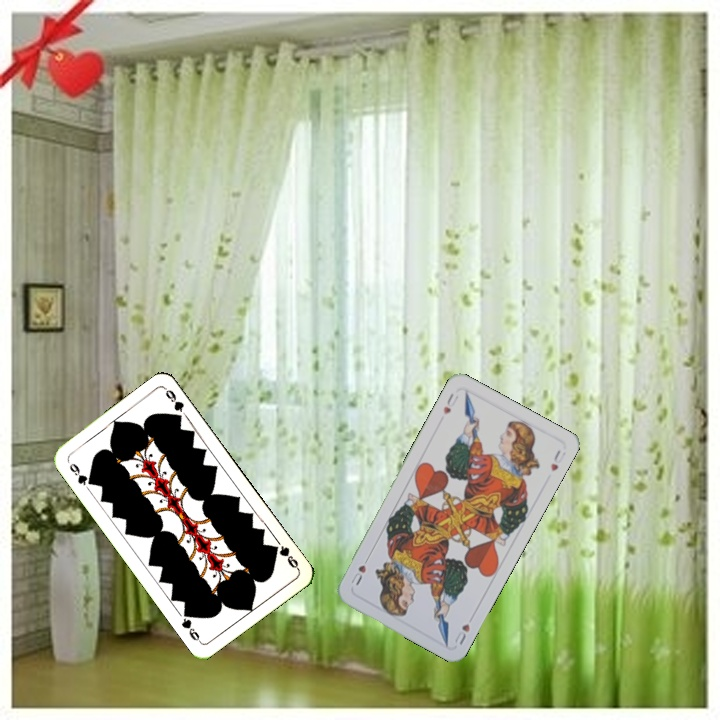G9: (268, 541, 301, 572), (65, 459, 96, 488)
HU: (439, 389, 461, 417), (450, 620, 472, 647)
